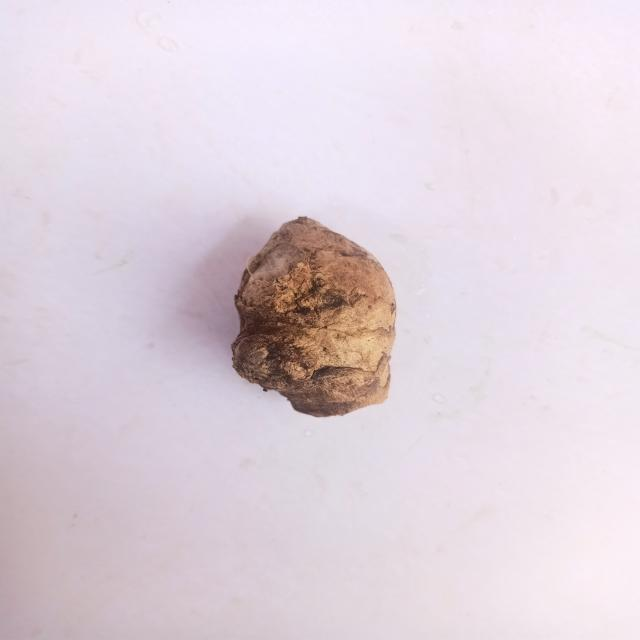Ginger: (232, 217, 396, 417)
